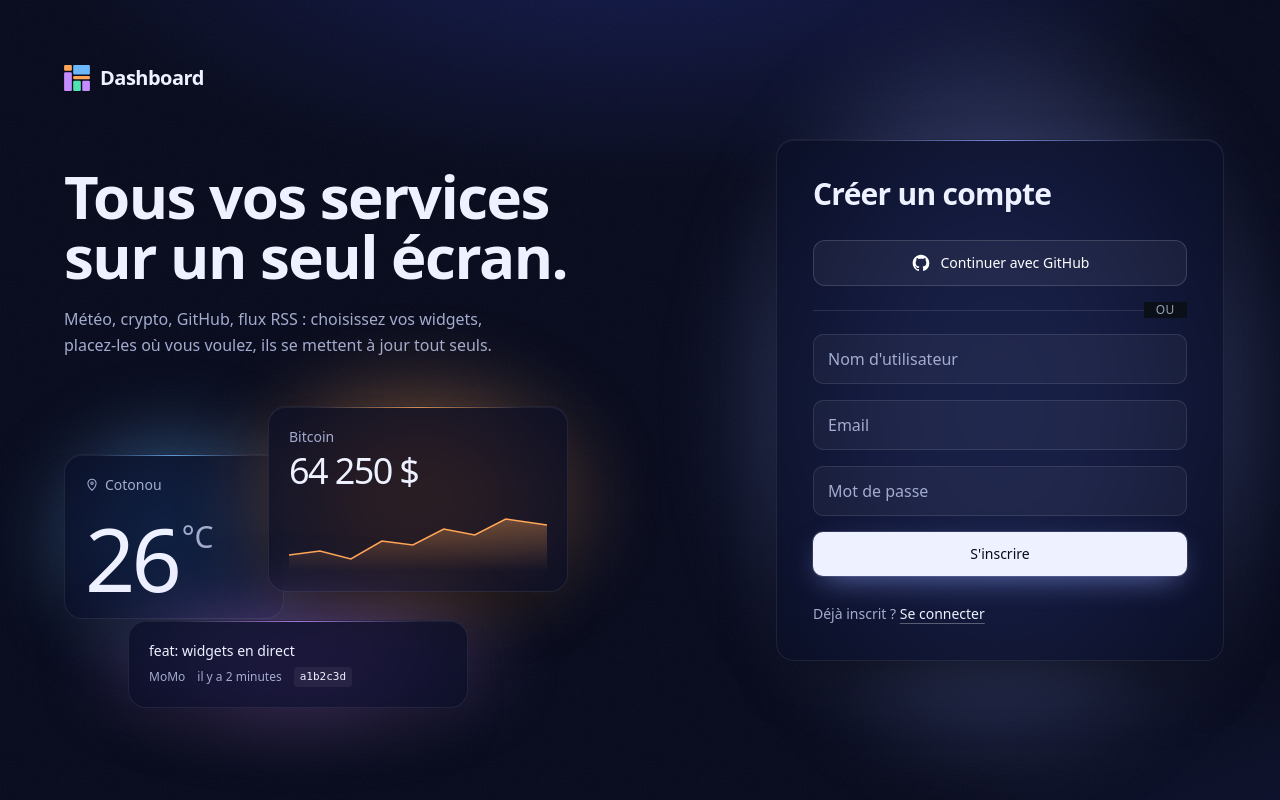
Test: Register page › affiche l'erreur du serveur sans planter
Type "MoMo" into the field with placeholder "Nom d'utilisateur" at (1000, 359), box [813, 334, 1187, 384]
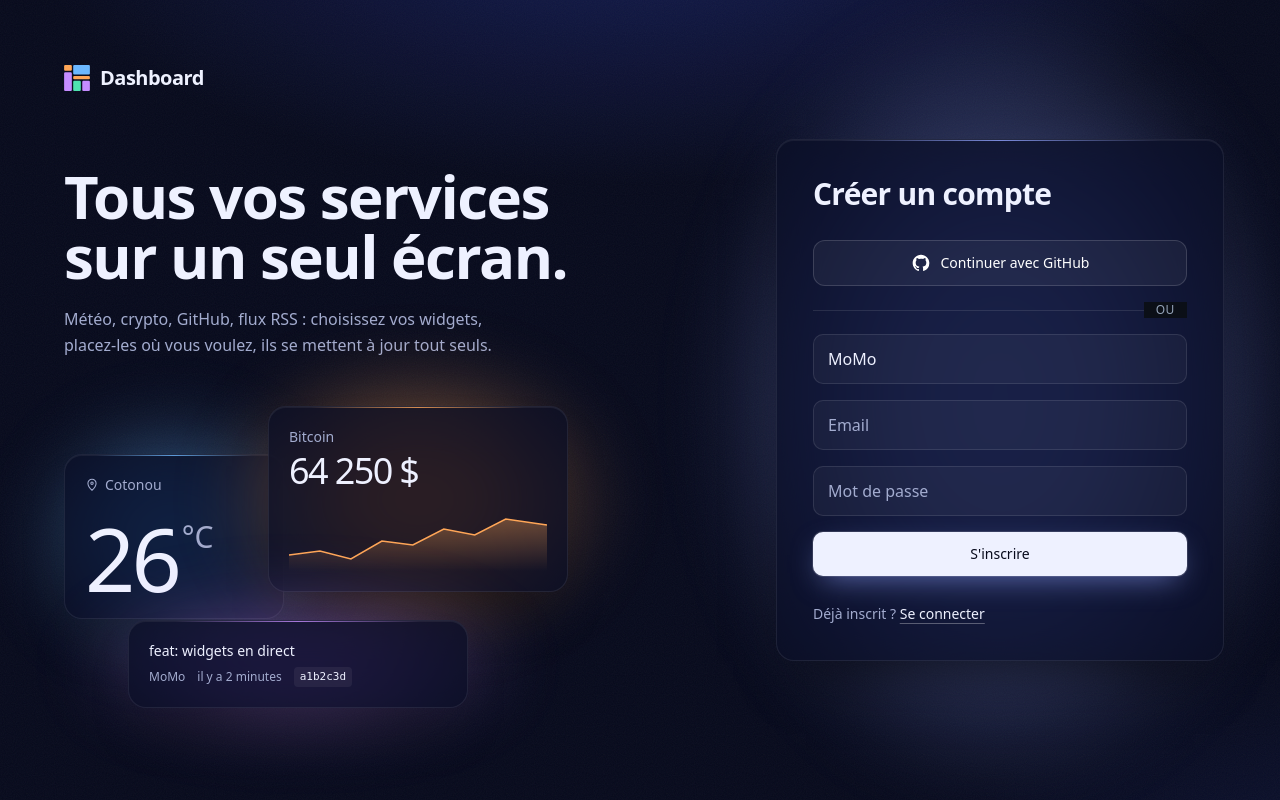
Type "momo@exemple.org" into the field with placeholder "Email" at (1000, 425), box [813, 400, 1187, 450]
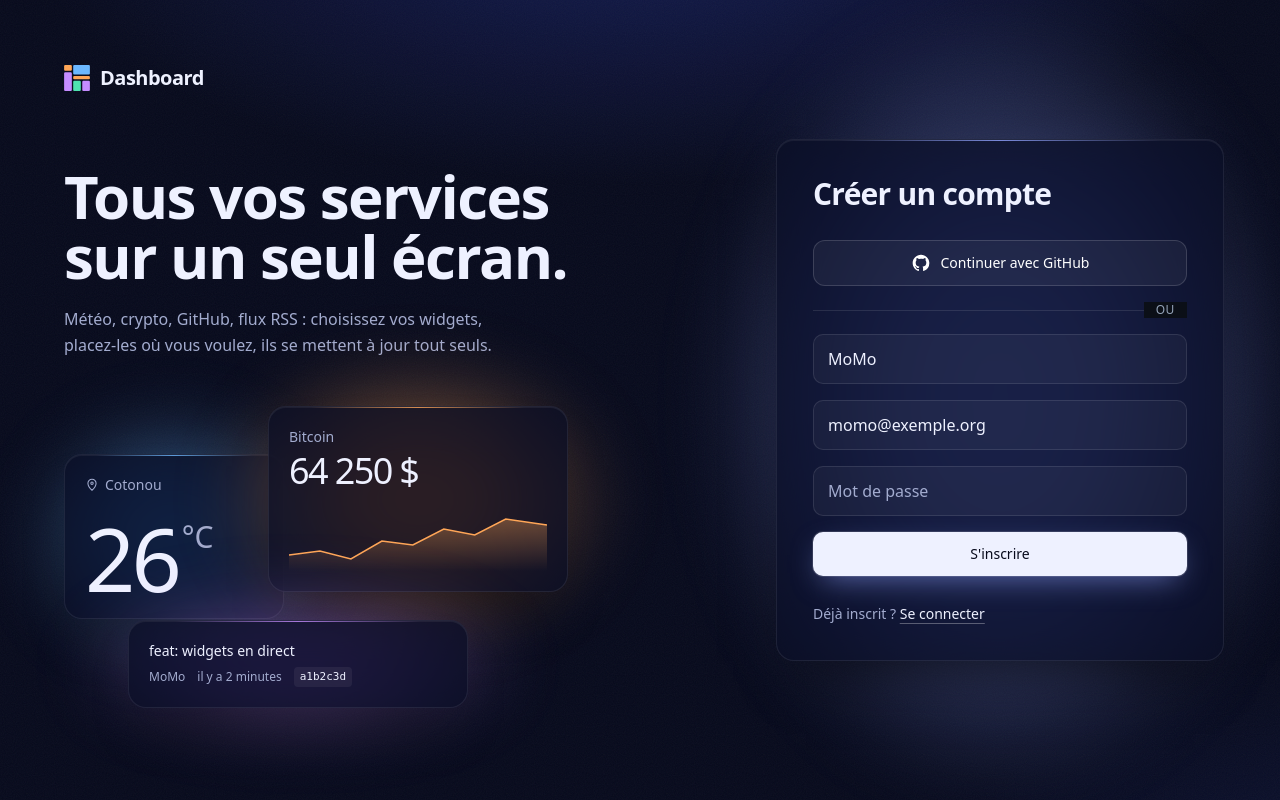
Type "secret123" into the password field with placeholder "Mot de passe" at (1000, 491), box [813, 466, 1187, 516]
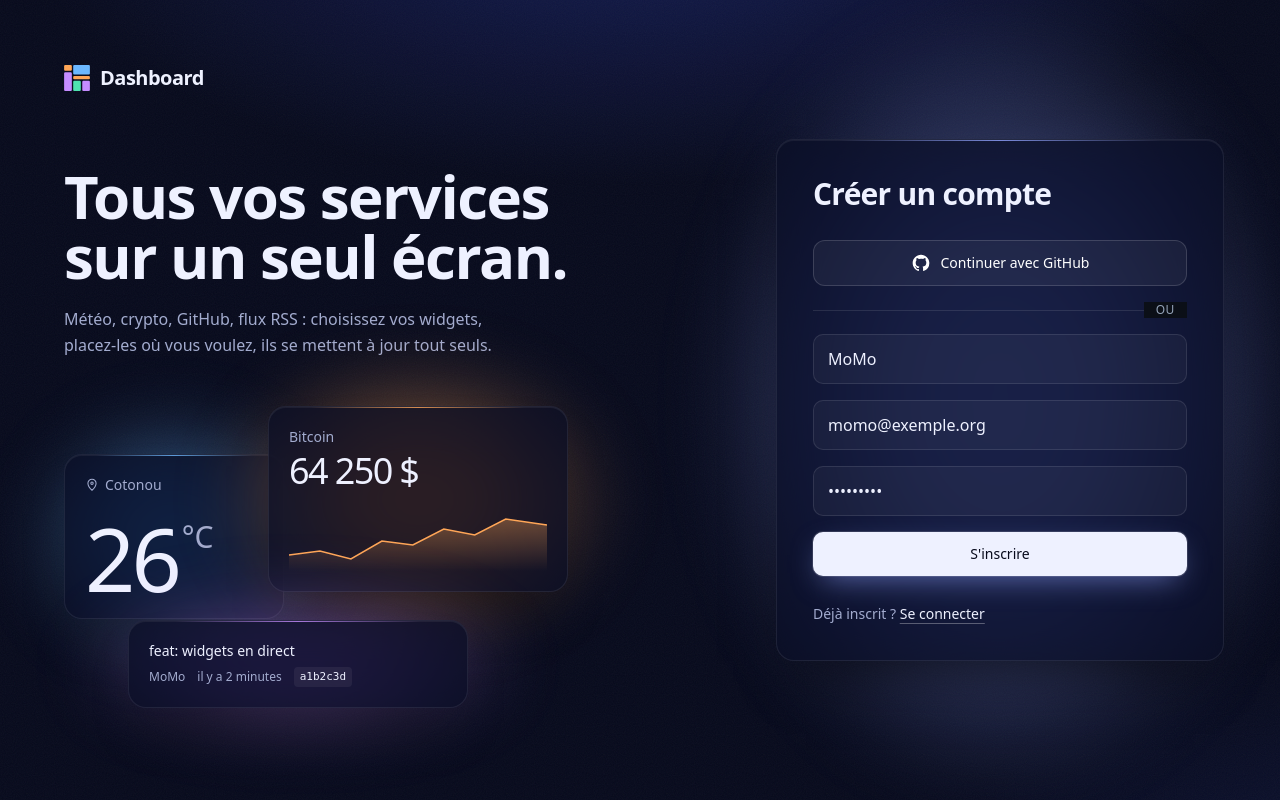
Click the button "S'inscrire" at (1000, 554), box [813, 532, 1187, 576]
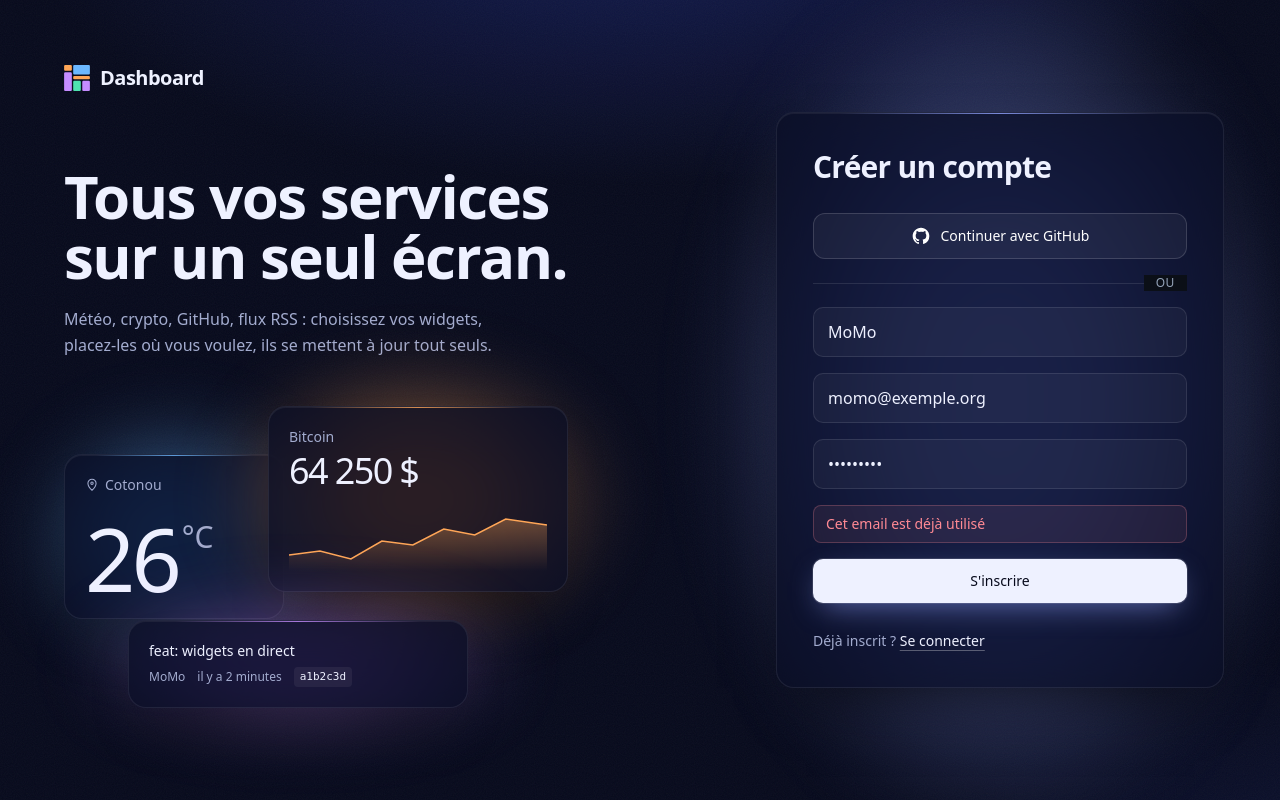
Result: the text "Cet email est déjà utilisé" is shown at [813, 505, 1187, 543]
